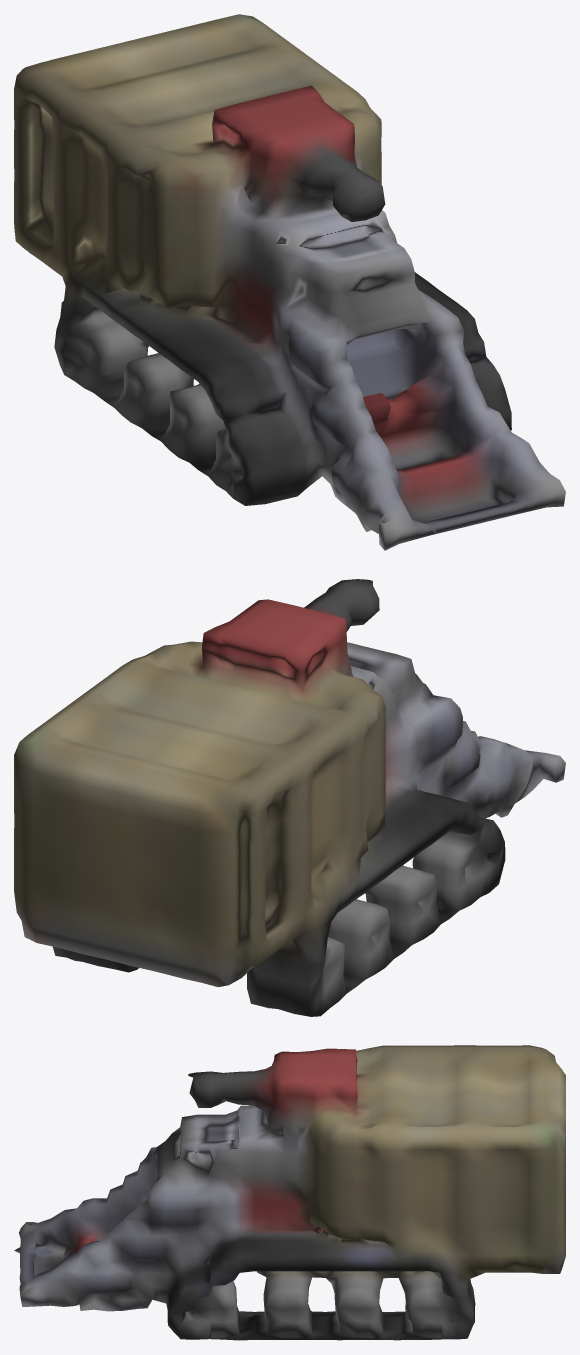
File: war_miner.glb
3 renders of one model, top to bottom at view 1: azimuth 30°, elevation 25°; view 2: azimuth 150°, elevation 25°; view 3: azimuth 270°, elevation 25°, orthographic. The views are drawn at different scales.
Parts seen in each view (by area): view 1: war_miner; view 2: war_miner; view 3: war_miner.
Part boxes in pixels (x1=…): war_miner: x1=14, y1=14, x2=565, y2=550; war_miner: x1=14, y1=579, x2=565, y2=1016; war_miner: x1=14, y1=1045, x2=565, y2=1340.
Bounding box in the file's own units: 2.21 × 2.37 × 5.16.
